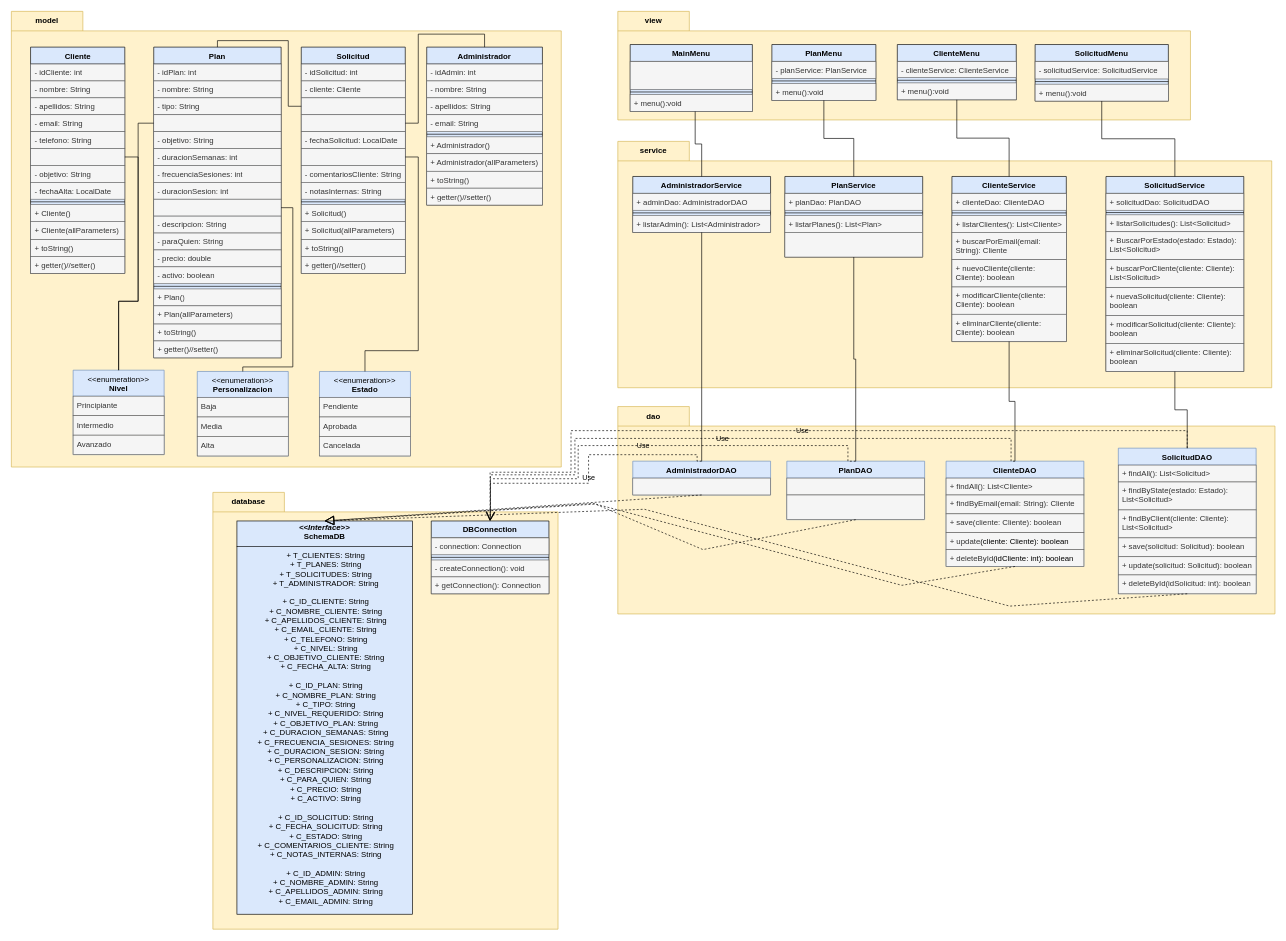
Image size: 1286x941. Some labels were removed from this diagram. Here are the shapes that lost their labels. From the top down, the centre of each, then its label:
At (691,75): "- administradorService: AdministradorService".
At (217,123): "- nivelRequerido: Nivel".
At (353,106): "- plan: Plan".
At (353,123): "- admin: Administrador".
At (77,156): "- nivel: Nivel".
At (353,156): "- estado: Estado".
At (217,207): "- personalizacion: Personalizacion".
At (853,244): "+ buscarPorNivel(nivel: String): List<Plan>".
At (701,486): "+ findAll(): List<Administrador>".
At (855,486): "+ findAll(): List<Plan>".
At (855,507): "+ findByLevel(nivel: String): List<Plan>".
